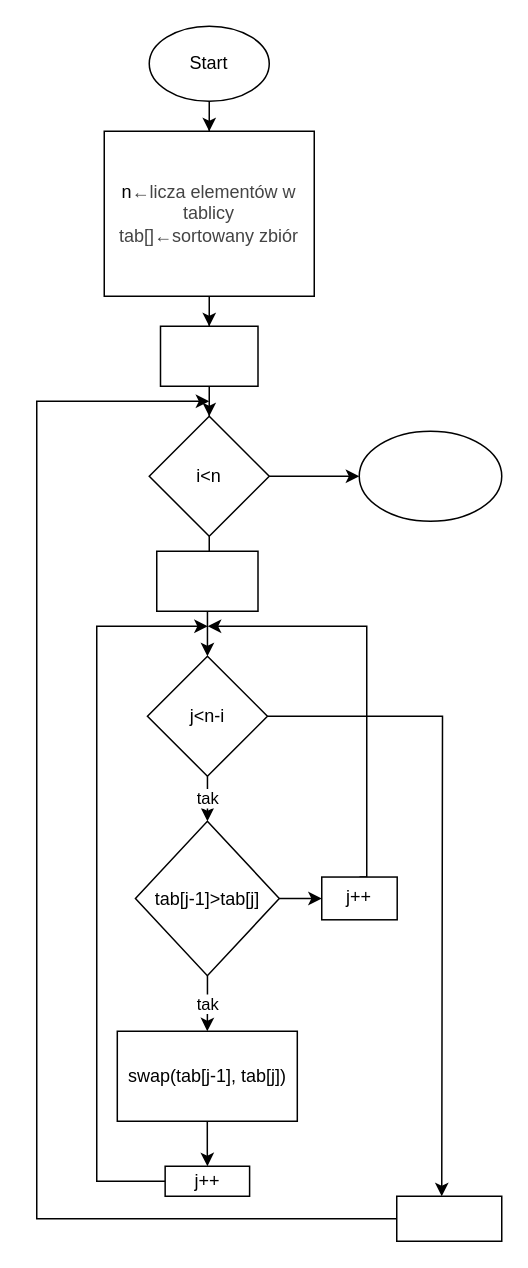
Some shapes in this 528 by 1268 pixel diagram are drawn without their labels. The shapes that lost their labels are listed below. From the top down, each one's box as (x1, y1, x2, y2) in pixels, then its label:
(159, 325, 258, 386): i ←0
(358, 430, 502, 521): Stop
(155, 550, 258, 611): j=1
(395, 1195, 502, 1241): j=j+1
